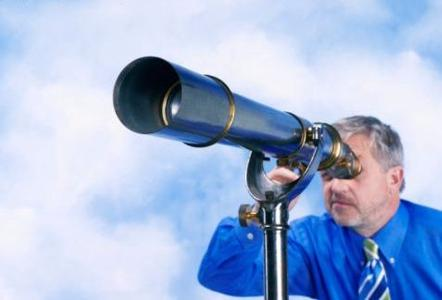person: (199, 115, 441, 298)
